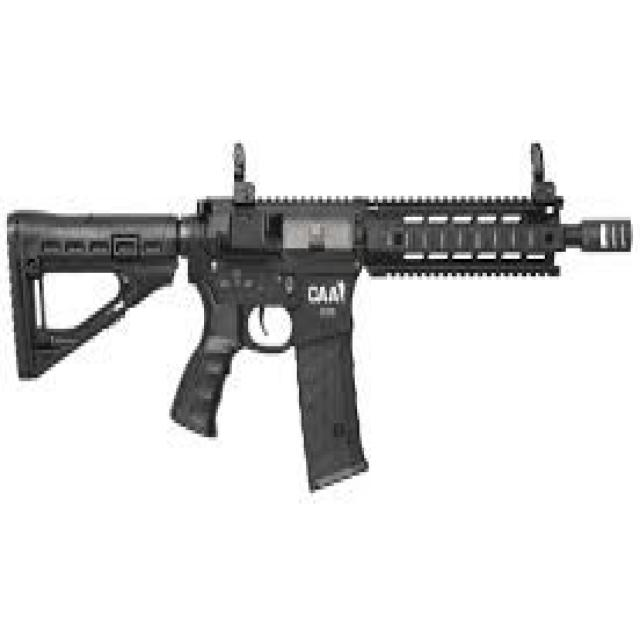rifle: (1, 123, 640, 502)
